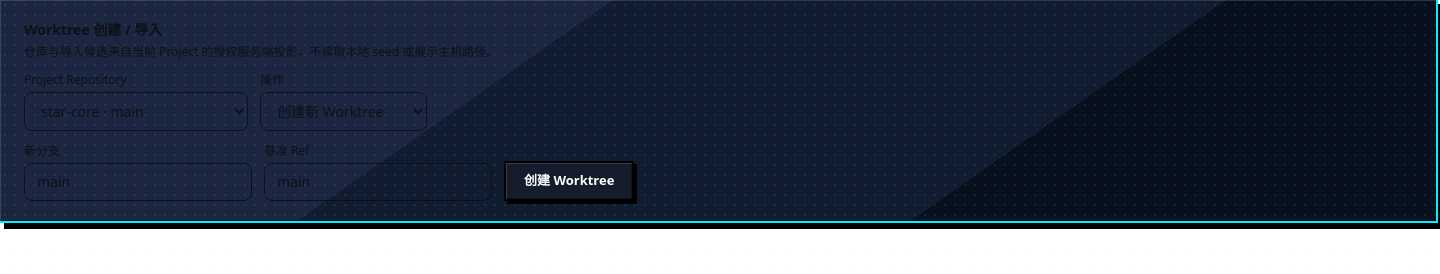
Test: ProjectWorktreeLifecycleControls › accepts a matching create receipt and refreshes the Project Index
The image size is (1440, 274).
Check: the dropdown labelled "Project Repository" shows "star-core · main", box [24, 92, 248, 131]
Click the button "创建 Worktree".
click(569, 181)  # box [504, 161, 634, 201]
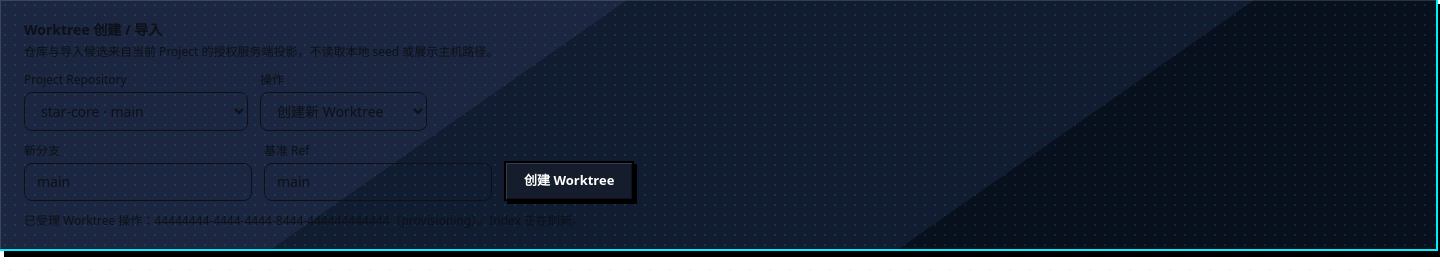
Check: the message shows "44444444-4444-4444-8444-444444444444", box [24, 212, 584, 229]
